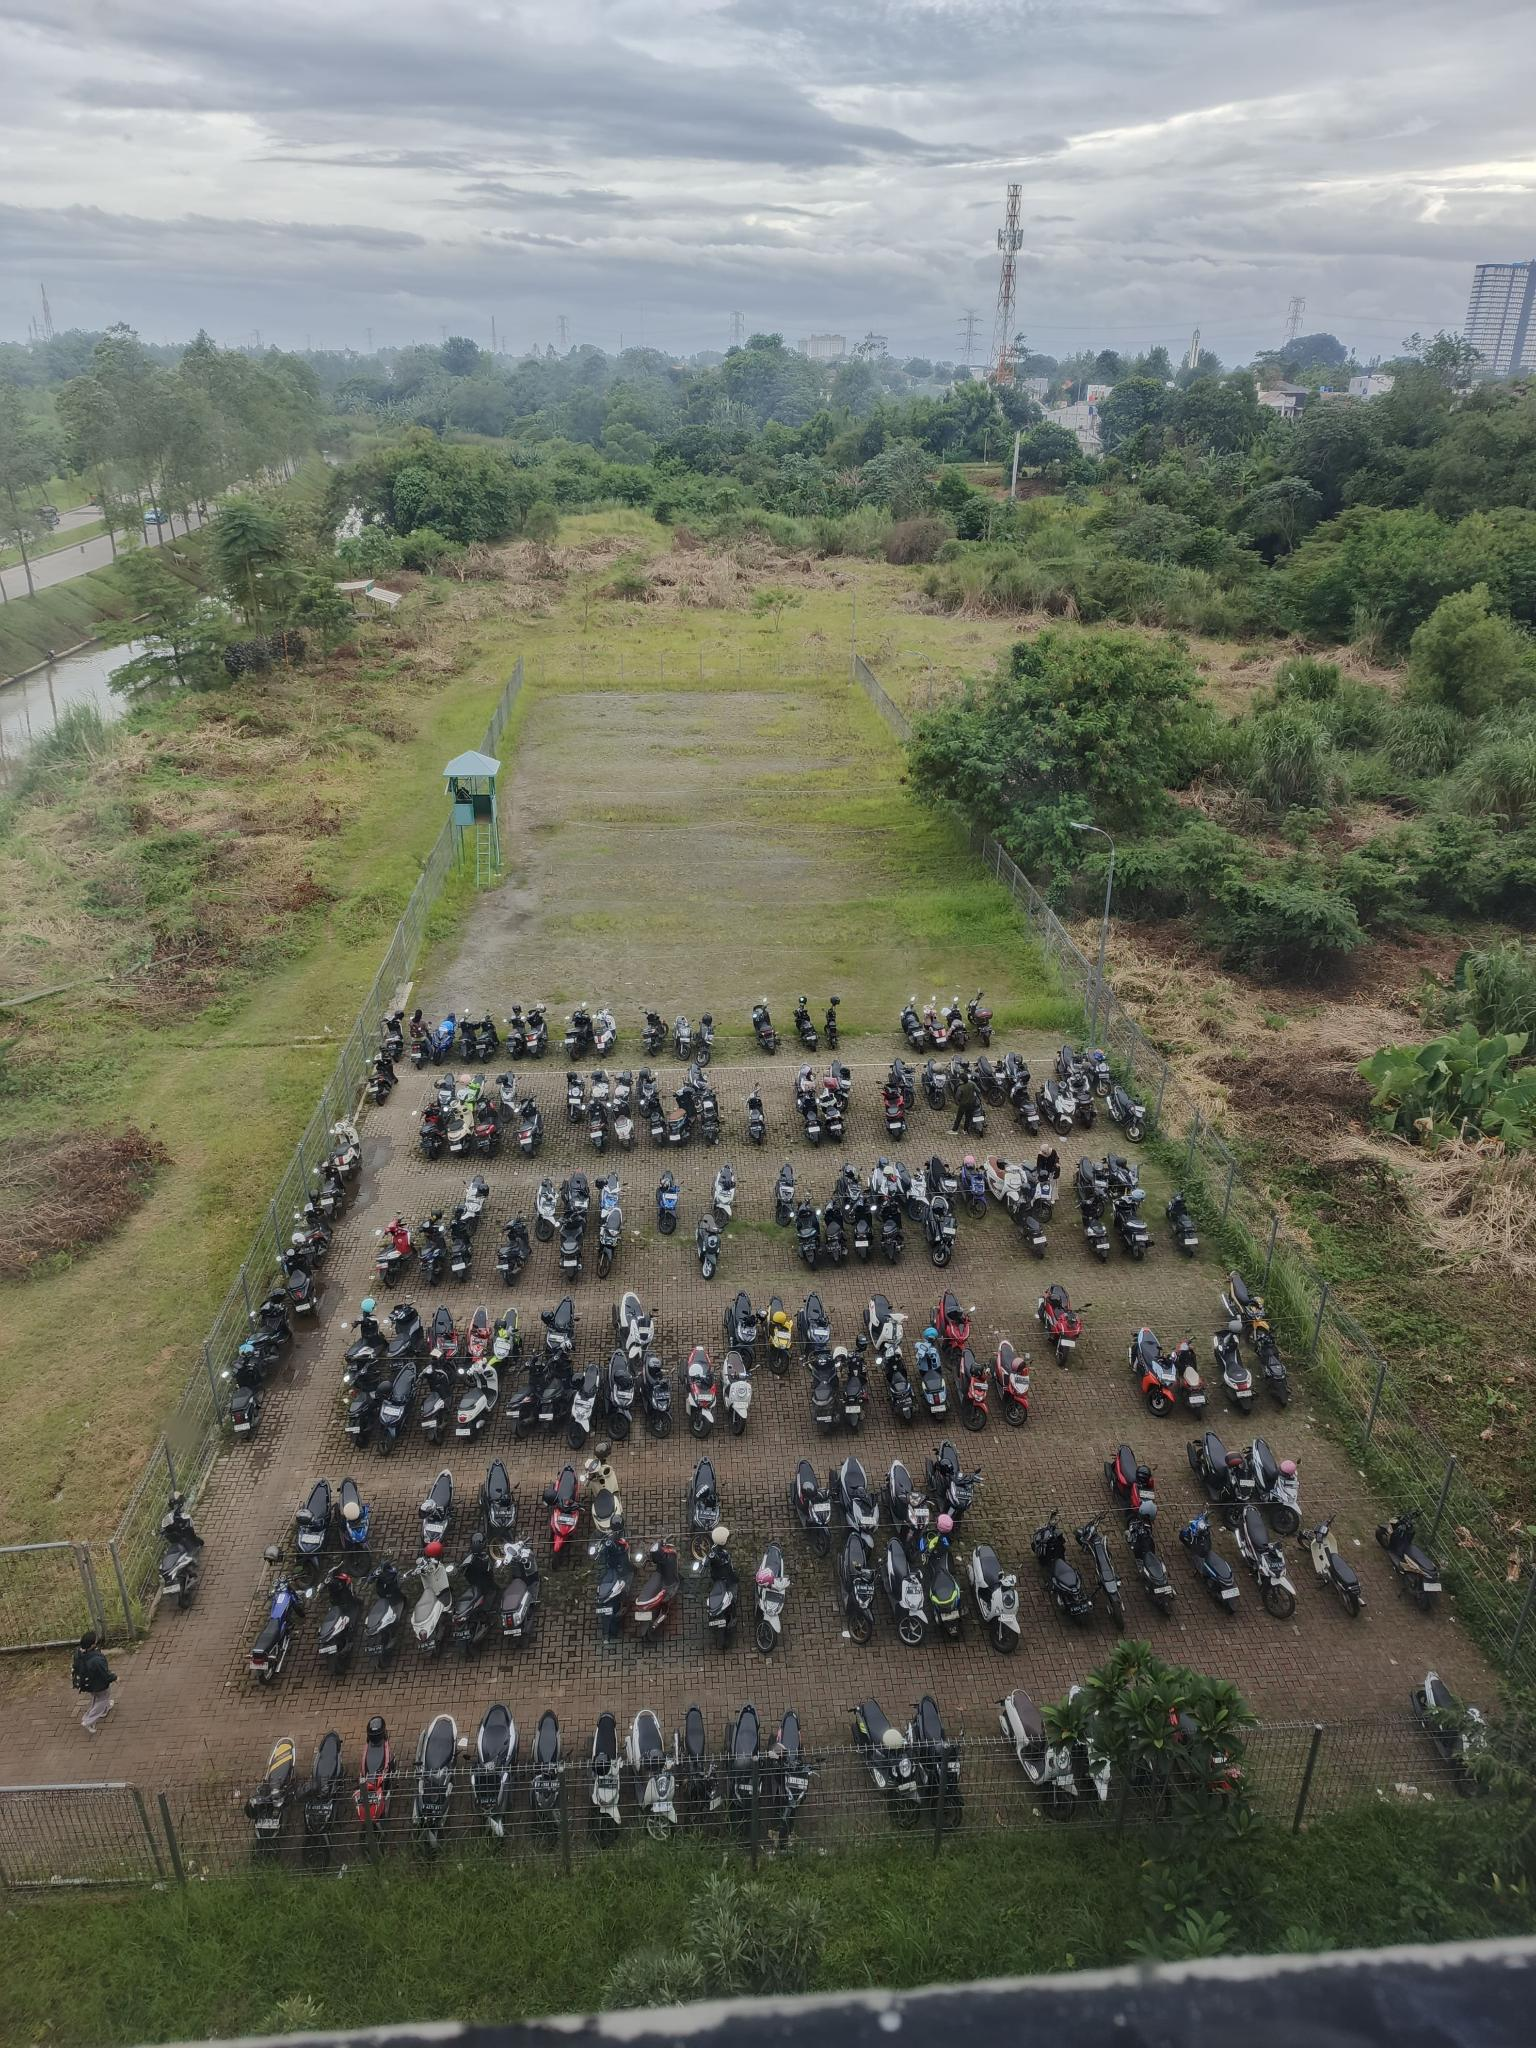motor: (989, 1686, 1081, 1829), (849, 1688, 922, 1840), (464, 1700, 521, 1852), (911, 1689, 972, 1830), (1418, 1668, 1488, 1784), (413, 1703, 464, 1855), (525, 1705, 576, 1853), (672, 1696, 724, 1836), (717, 1692, 765, 1840), (243, 1732, 294, 1871), (629, 1707, 681, 1842), (251, 1568, 309, 1685), (576, 1709, 627, 1840), (1377, 1509, 1441, 1613), (311, 1557, 363, 1682), (770, 1694, 814, 1841), (1242, 1509, 1296, 1625), (1304, 1515, 1364, 1619), (352, 1719, 396, 1855), (361, 1555, 408, 1682), (304, 1727, 344, 1876), (451, 1543, 497, 1669), (154, 1493, 203, 1611), (1186, 1512, 1241, 1617), (972, 1547, 1023, 1653), (633, 1536, 680, 1647), (407, 1545, 448, 1671), (695, 1540, 742, 1649), (593, 1533, 637, 1645), (833, 1529, 876, 1643), (924, 1530, 967, 1643), (1188, 1429, 1251, 1506), (1245, 1430, 1307, 1508), (881, 1536, 924, 1647), (1131, 1512, 1177, 1615), (1128, 1327, 1179, 1418), (989, 1337, 1038, 1430), (1084, 1518, 1127, 1623), (928, 1437, 983, 1519), (454, 1357, 501, 1451), (499, 1539, 541, 1644), (753, 1540, 790, 1658), (1040, 1522, 1085, 1618), (408, 1465, 461, 1545), (1211, 1330, 1259, 1417), (836, 1455, 884, 1541), (632, 1348, 676, 1440), (1040, 1278, 1085, 1367), (505, 1348, 547, 1443), (374, 1364, 418, 1454), (716, 1349, 759, 1440), (678, 1342, 718, 1439), (1100, 1435, 1158, 1500), (949, 1348, 992, 1434), (1174, 1335, 1214, 1427), (1225, 1266, 1274, 1340), (414, 1357, 452, 1452), (882, 1453, 931, 1526), (476, 1456, 518, 1541), (584, 1444, 624, 1531), (787, 1454, 833, 1527), (804, 1345, 841, 1435), (290, 1475, 335, 1549), (334, 1476, 377, 1553), (914, 1336, 952, 1423), (1112, 1192, 1157, 1265), (372, 1214, 416, 1288), (231, 1347, 267, 1437), (1104, 1080, 1153, 1145), (1075, 1191, 1116, 1268), (611, 1289, 660, 1352), (881, 1345, 918, 1428), (343, 1359, 379, 1444), (250, 1293, 291, 1367), (816, 1189, 855, 1266), (1255, 1332, 1296, 1405), (936, 1286, 974, 1364), (684, 1453, 723, 1529), (602, 1347, 635, 1436), (494, 1215, 533, 1288), (570, 1359, 602, 1447), (542, 1346, 571, 1442), (549, 1458, 584, 1537), (1032, 1073, 1075, 1137), (1009, 1193, 1048, 1263), (790, 1192, 824, 1271), (842, 1345, 872, 1434), (924, 1197, 959, 1270), (873, 1195, 910, 1263), (284, 1244, 318, 1318), (748, 993, 786, 1059), (863, 1292, 905, 1351), (443, 1212, 476, 1287), (344, 1298, 383, 1360), (1165, 1190, 1200, 1259), (382, 1298, 424, 1355), (414, 1218, 449, 1286), (557, 1204, 586, 1284), (541, 1291, 579, 1352), (695, 1211, 727, 1283), (987, 1146, 1021, 1213), (300, 1199, 333, 1267), (784, 992, 820, 1054), (632, 1002, 669, 1062), (843, 1192, 874, 1263), (597, 1208, 627, 1281), (664, 1081, 697, 1147), (830, 1156, 865, 1218), (723, 1287, 759, 1347), (513, 1096, 547, 1159), (709, 1161, 740, 1230), (329, 1118, 364, 1179), (879, 1078, 911, 1142), (959, 1151, 988, 1221), (654, 1169, 683, 1237), (415, 1097, 446, 1160), (561, 1001, 593, 1062), (818, 1085, 850, 1146), (797, 1287, 831, 1344), (428, 1299, 463, 1354), (318, 1156, 347, 1222), (427, 1067, 461, 1123), (533, 1173, 559, 1246), (796, 1087, 825, 1152), (1070, 1070, 1100, 1131), (641, 1088, 669, 1153), (1010, 1083, 1042, 1139), (690, 1011, 719, 1072), (976, 1053, 1008, 1108), (763, 1289, 795, 1344), (610, 1096, 639, 1156), (591, 1002, 621, 1058), (460, 1173, 488, 1233), (492, 1302, 523, 1356), (744, 1083, 770, 1147), (772, 1161, 798, 1225), (498, 1002, 526, 1061), (367, 1053, 397, 1107), (899, 1002, 930, 1054), (378, 1010, 407, 1065), (472, 1010, 500, 1066), (522, 1004, 550, 1059), (817, 996, 846, 1049), (448, 1097, 472, 1161), (894, 1152, 928, 1197), (700, 1085, 724, 1148), (968, 995, 997, 1047), (1103, 1147, 1142, 1185), (458, 1062, 487, 1113), (475, 1097, 499, 1158), (943, 1000, 971, 1052), (432, 1012, 459, 1065), (563, 1068, 588, 1124), (496, 1068, 521, 1123), (667, 1010, 692, 1064), (922, 999, 948, 1050), (452, 1013, 477, 1066), (926, 1151, 957, 1193), (588, 1099, 610, 1157), (561, 1169, 593, 1208), (1052, 1041, 1087, 1076), (820, 1054, 854, 1090), (467, 1303, 491, 1354), (595, 1168, 623, 1211), (868, 1157, 898, 1193), (1072, 1154, 1104, 1187), (888, 1055, 918, 1090), (1084, 1042, 1111, 1080), (636, 1065, 654, 1116), (611, 1068, 635, 1104), (793, 1061, 819, 1091), (685, 1062, 709, 1093), (591, 1067, 612, 1102), (1002, 1049, 1029, 1076), (947, 1052, 971, 1076), (924, 1055, 944, 1082)
